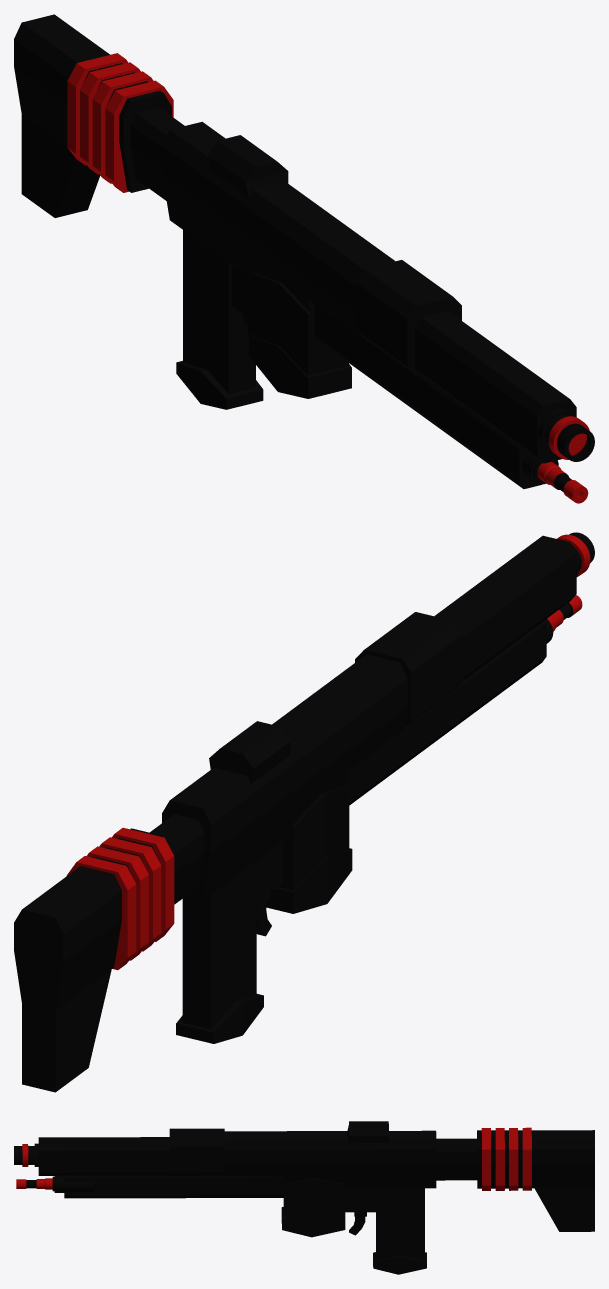
File: ShotgunProtonFinal.fbx
3 renders of one model, top to bottom at view 1: azimuth 30°, elevation 25°; view 2: azimuth 150°, elevation 25°; view 3: azimuth 270°, elevation 25°, orthographic. The views are drawn at different scales.
Parts seen in each view (by area): view 1: Cube.025, Cube.037, Cube.035, Cube.038, Cube.033, Cube.027, Cube.032, Cube.028, Cube.034, Cube.031, Cube.029, Cube.026 (+4 smaller); view 2: Cube.025, Cube.037, Cube.033, Cube.035, Cube.038, Cube.027, Cube.032, Cube.029, Cube.034, Cube.028, Cube.026, Cube.031 (+1 smaller); view 3: Cube.025, Cube.037, Cube.035, Cube.033, Cube.038, Cube.027, Cube.032, Cube.036, Cube.034, Cube.029, Cube.031, Cube.026 (+4 smaller).
Boxes of the visible parts, x1=… form: Cube.025: x1=14, y1=14, x2=394, y2=337; Cube.037: x1=415, y1=311, x2=576, y2=463; Cube.035: x1=314, y1=304, x2=541, y2=488; Cube.038: x1=249, y1=273, x2=351, y2=398; Cube.033: x1=183, y1=230, x2=255, y2=394; Cube.027: x1=356, y1=260, x2=461, y2=374; Cube.032: x1=208, y1=135, x2=288, y2=197; Cube.028: x1=105, y1=80, x2=173, y2=192; Cube.034: x1=176, y1=361, x2=263, y2=409; Cube.031: x1=92, y1=71, x2=153, y2=183; Cube.029: x1=67, y1=53, x2=127, y2=165; Cube.026: x1=80, y1=62, x2=140, y2=174; Cube.025: x1=14, y1=654, x2=407, y2=1092; Cube.037: x1=434, y1=535, x2=576, y2=680; Cube.033: x1=182, y1=861, x2=256, y2=1029; Cube.035: x1=347, y1=620, x2=546, y2=805; Cube.038: x1=266, y1=785, x2=352, y2=913; Cube.027: x1=355, y1=612, x2=462, y2=727; Cube.032: x1=209, y1=721, x2=290, y2=783; Cube.029: x1=66, y1=856, x2=136, y2=970; Cube.034: x1=176, y1=994, x2=263, y2=1043; Cube.028: x1=112, y1=827, x2=174, y2=941; Cube.026: x1=87, y1=846, x2=148, y2=960; Cube.031: x1=99, y1=837, x2=161, y2=951; Cube.025: x1=224, y1=1130, x2=594, y2=1231; Cube.037: x1=38, y1=1137, x2=169, y2=1175; Cube.035: x1=64, y1=1175, x2=283, y2=1198; Cube.033: x1=376, y1=1188, x2=424, y2=1260; Cube.038: x1=281, y1=1178, x2=345, y2=1237; Cube.027: x1=169, y1=1128, x2=224, y2=1175; Cube.032: x1=347, y1=1121, x2=388, y2=1143; Cube.036: x1=343, y1=1188, x2=375, y2=1212; Cube.034: x1=373, y1=1252, x2=426, y2=1274; Cube.029: x1=522, y1=1127, x2=531, y2=1190; Cube.031: x1=495, y1=1128, x2=504, y2=1190; Cube.026: x1=509, y1=1128, x2=518, y2=1190.
Bounding box in the file's own units: 17.99 × 75.96 × 276.
